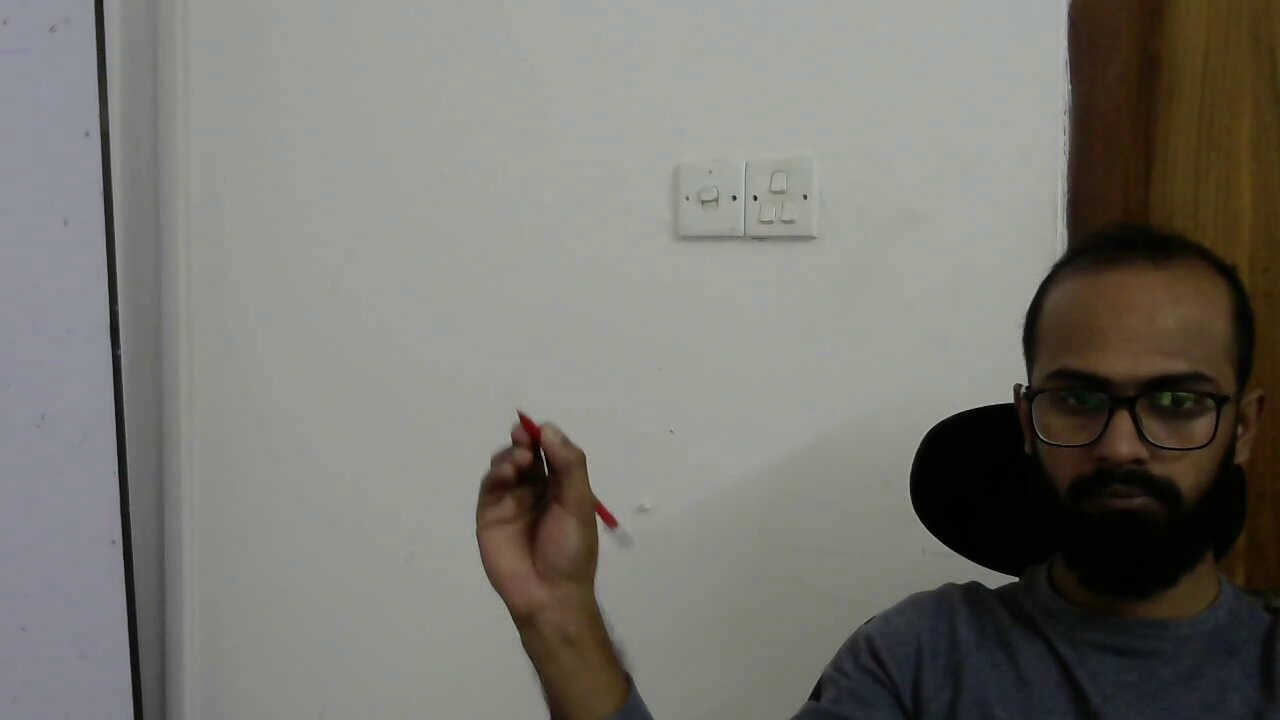pointer: (474, 412, 598, 549)
